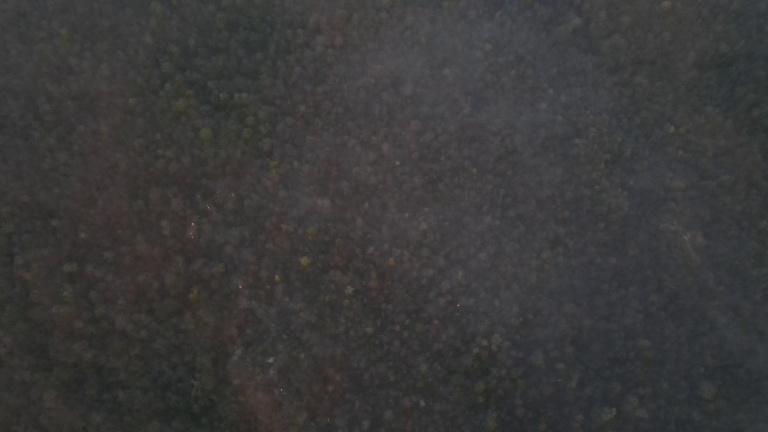fire: (203, 190, 235, 211), (187, 219, 200, 242), (232, 282, 245, 291), (275, 385, 286, 394)
